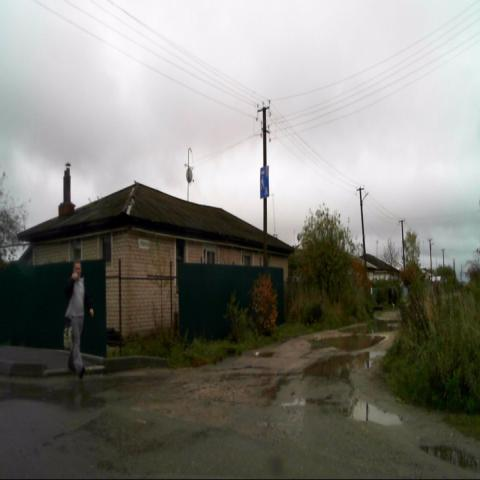5_21: (260, 164, 270, 198)
